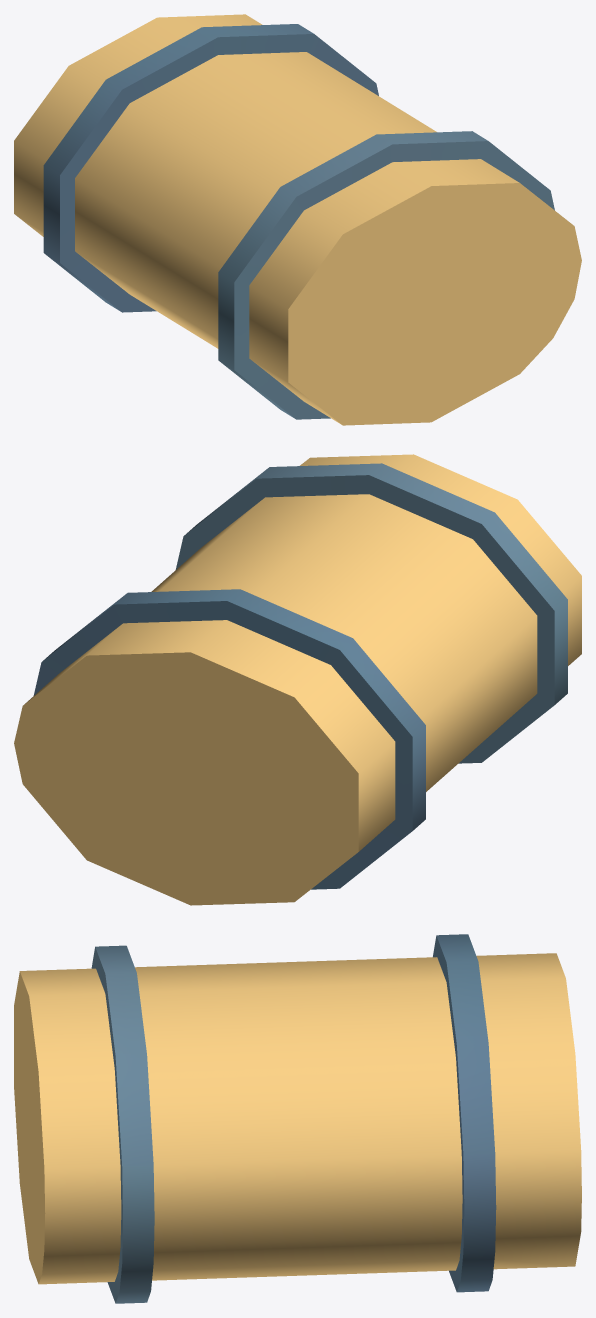
The model's file is Seno.fbx.
3 renders of one model, top to bottom at view 1: azimuth 30°, elevation 25°; view 2: azimuth 150°, elevation 25°; view 3: azimuth 270°, elevation 25°, orthographic. The views are drawn at different scales.
Parts seen in each view (by area): view 1: Seno; view 2: Seno; view 3: Seno.
Part boxes in pixels (x1=…): Seno: x1=14, y1=14, x2=581, y2=425; Seno: x1=14, y1=454, x2=581, y2=905; Seno: x1=14, y1=934, x2=581, y2=1303.
Bounding box in the file's own units: 0.408 × 0.2916 × 0.4961.
